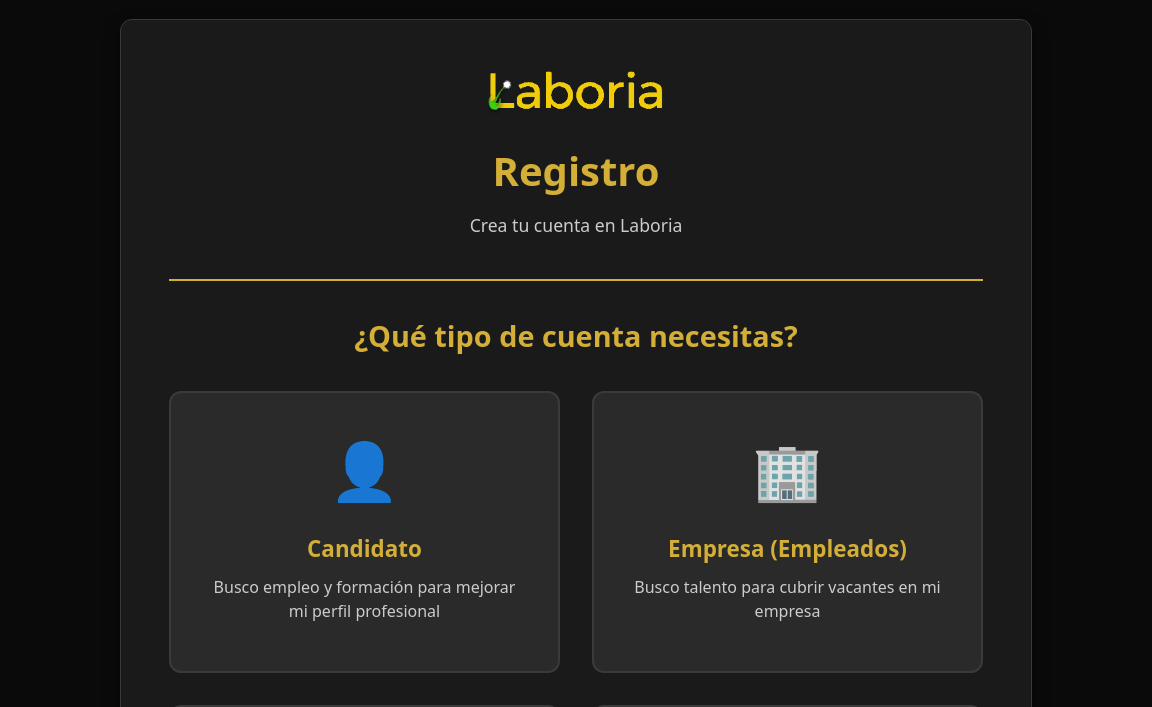
Test: RegisterPage › muestra campos específicos para candidato
Click the heading "Candidato" at (364, 548), box [307,533,422,564]
(page scrolled)
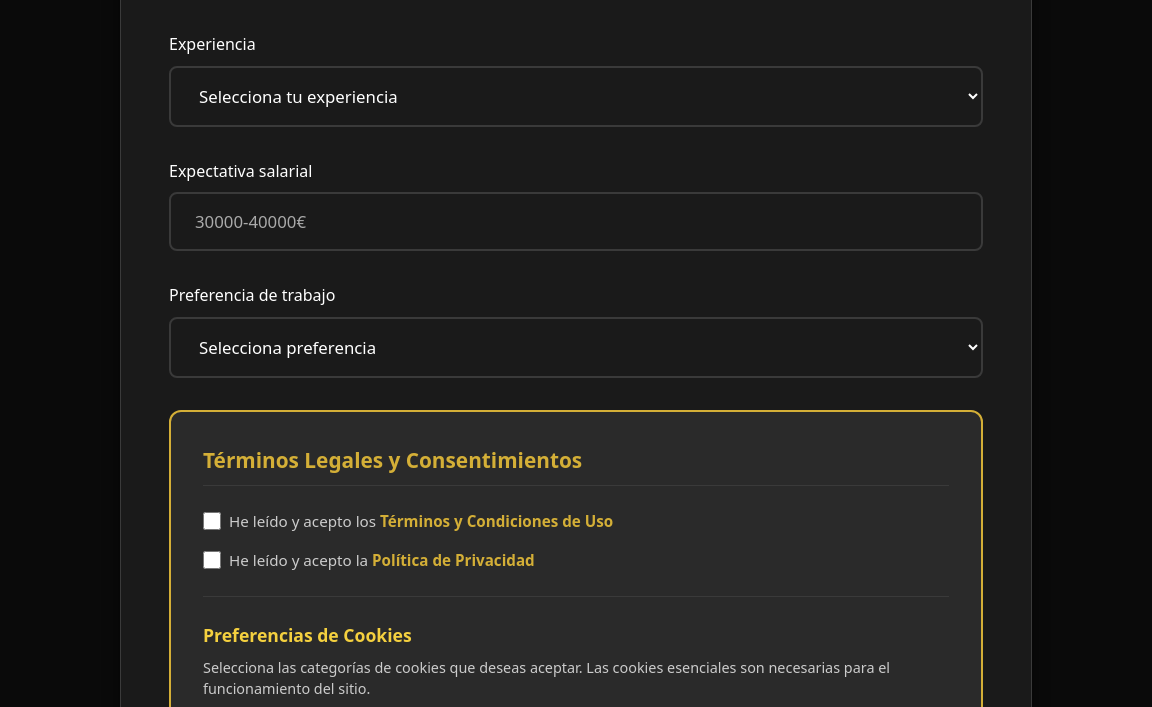
Check: the dropdown labelled "Experiencia" is shown, box [169,66,983,127]
Check: the field labelled "Expectativa salarial" is shown, box [169,192,983,251]
Check: the dropdown labelled "Preferencia de trabajo" is shown, box [169,317,983,378]
